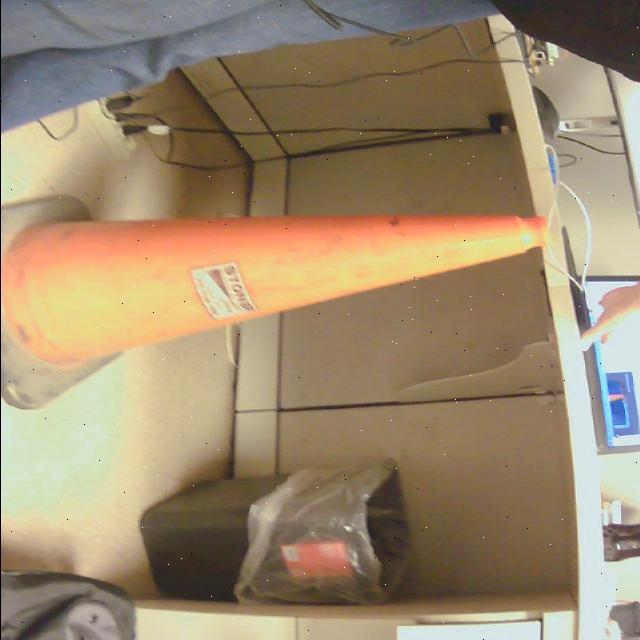traffic cone: (1, 197, 545, 412)
